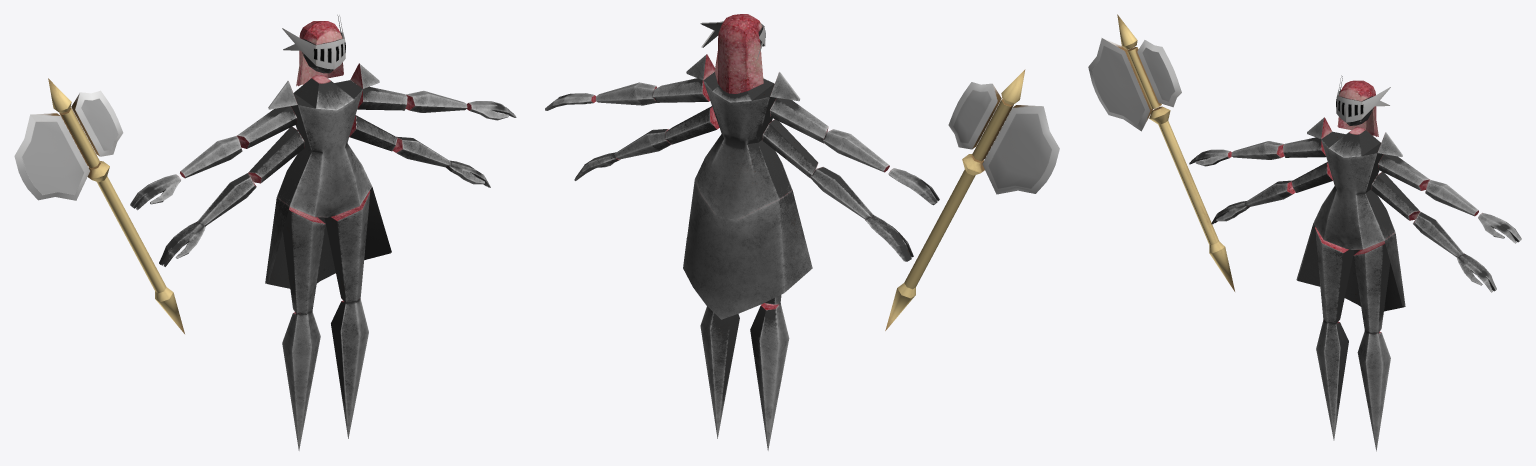
File: boss.fbx
The picture shows the model from 3 angles, left to right: view 1: azimuth 30°, elevation 25°; view 2: azimuth 150°, elevation 25°; view 3: azimuth 330°, elevation 25°; orthographic projection. The views are drawn at different scales.
Parts seen in each view (by area): view 1: Boss, Axe, Boss.003; view 2: Boss, Axe; view 3: Boss, Axe, Boss.003.
Part boxes in pixels (x1,y1,x2,y2): Boss: [130, 15, 516, 450]; Axe: [14, 78, 184, 333]; Boss.003: [267, 15, 390, 288]; Boss: [545, 14, 939, 450]; Axe: [885, 69, 1059, 330]; Boss: [1189, 75, 1521, 451]; Axe: [1088, 14, 1234, 291]; Boss.003: [1297, 76, 1403, 311].
Bounding box in the file's own units: 578 × 480 × 69.81.
Materials: 1 (1 with a texture image).
